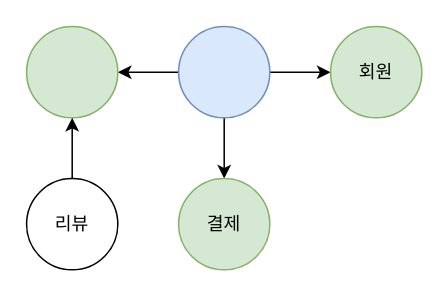
The diagram is 448 pixels wide and 296 high, and some of its shapes have lost their labels. Each missing label, with the box of its shape:
상품: (25, 25, 118, 118)
주문: (177, 25, 270, 118)
